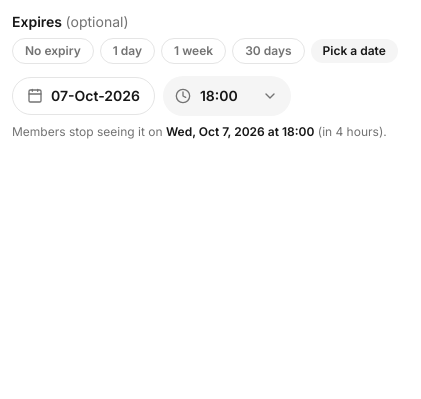
it: AnnouncementExpiryField › warns when the chosen time has already passed
This screenshot has width=421, height=399.
Click the dropdown named "Expiry time".
click(227, 96)  # box [163,76,291,116]
(page scrolled)
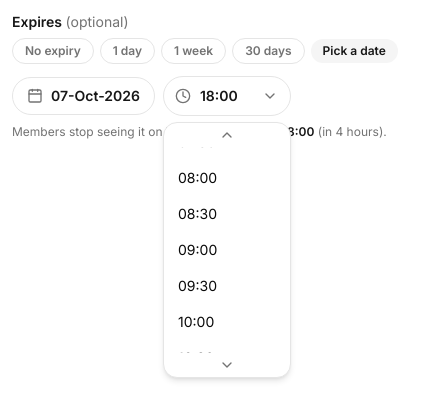
Click the option "09:00".
click(198, 250)  # box [178,241,217,258]
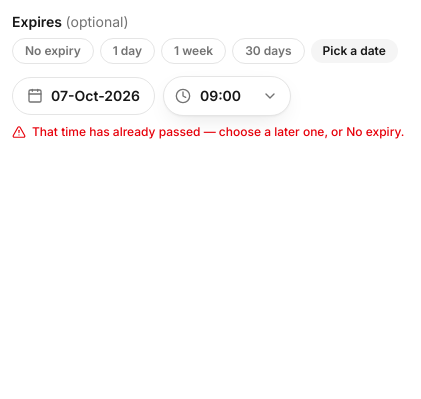
expect the message shows "That time has already passed": met, box [32,124,404,139]
